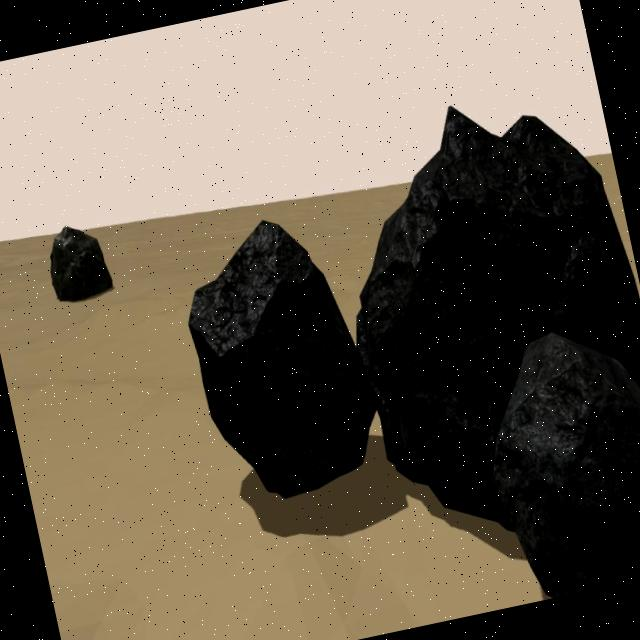rock: (312, 74, 640, 555), (170, 203, 392, 512), (467, 312, 640, 604), (41, 217, 115, 306)
